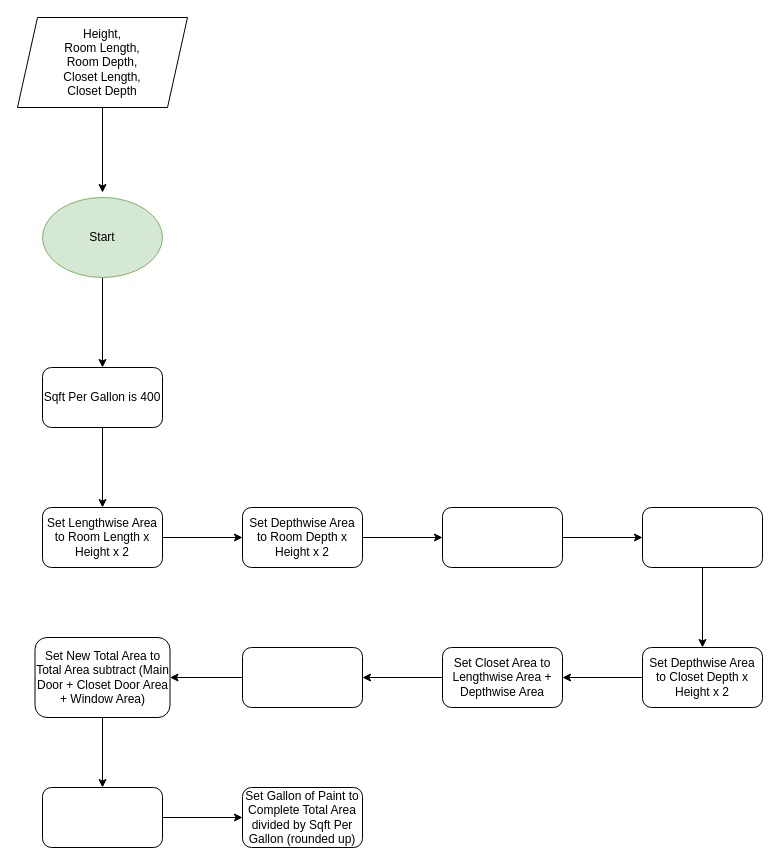
Image size: 780x865. Some labels were removed from this diagram. The shapes that lost their labels are listed below. From the top down, each one's centre as x and y in pixels, then its label:
the point at 502,537: Set Main Area to Length Area + Depthwise Area
the point at 702,537: Set Lengthwise Area to Closet Length x Height x 2
the point at 302,677: Set Total Area to Main Area + Closet Area
the point at 102,817: Set Complete Total Area to New Total Area x 2
